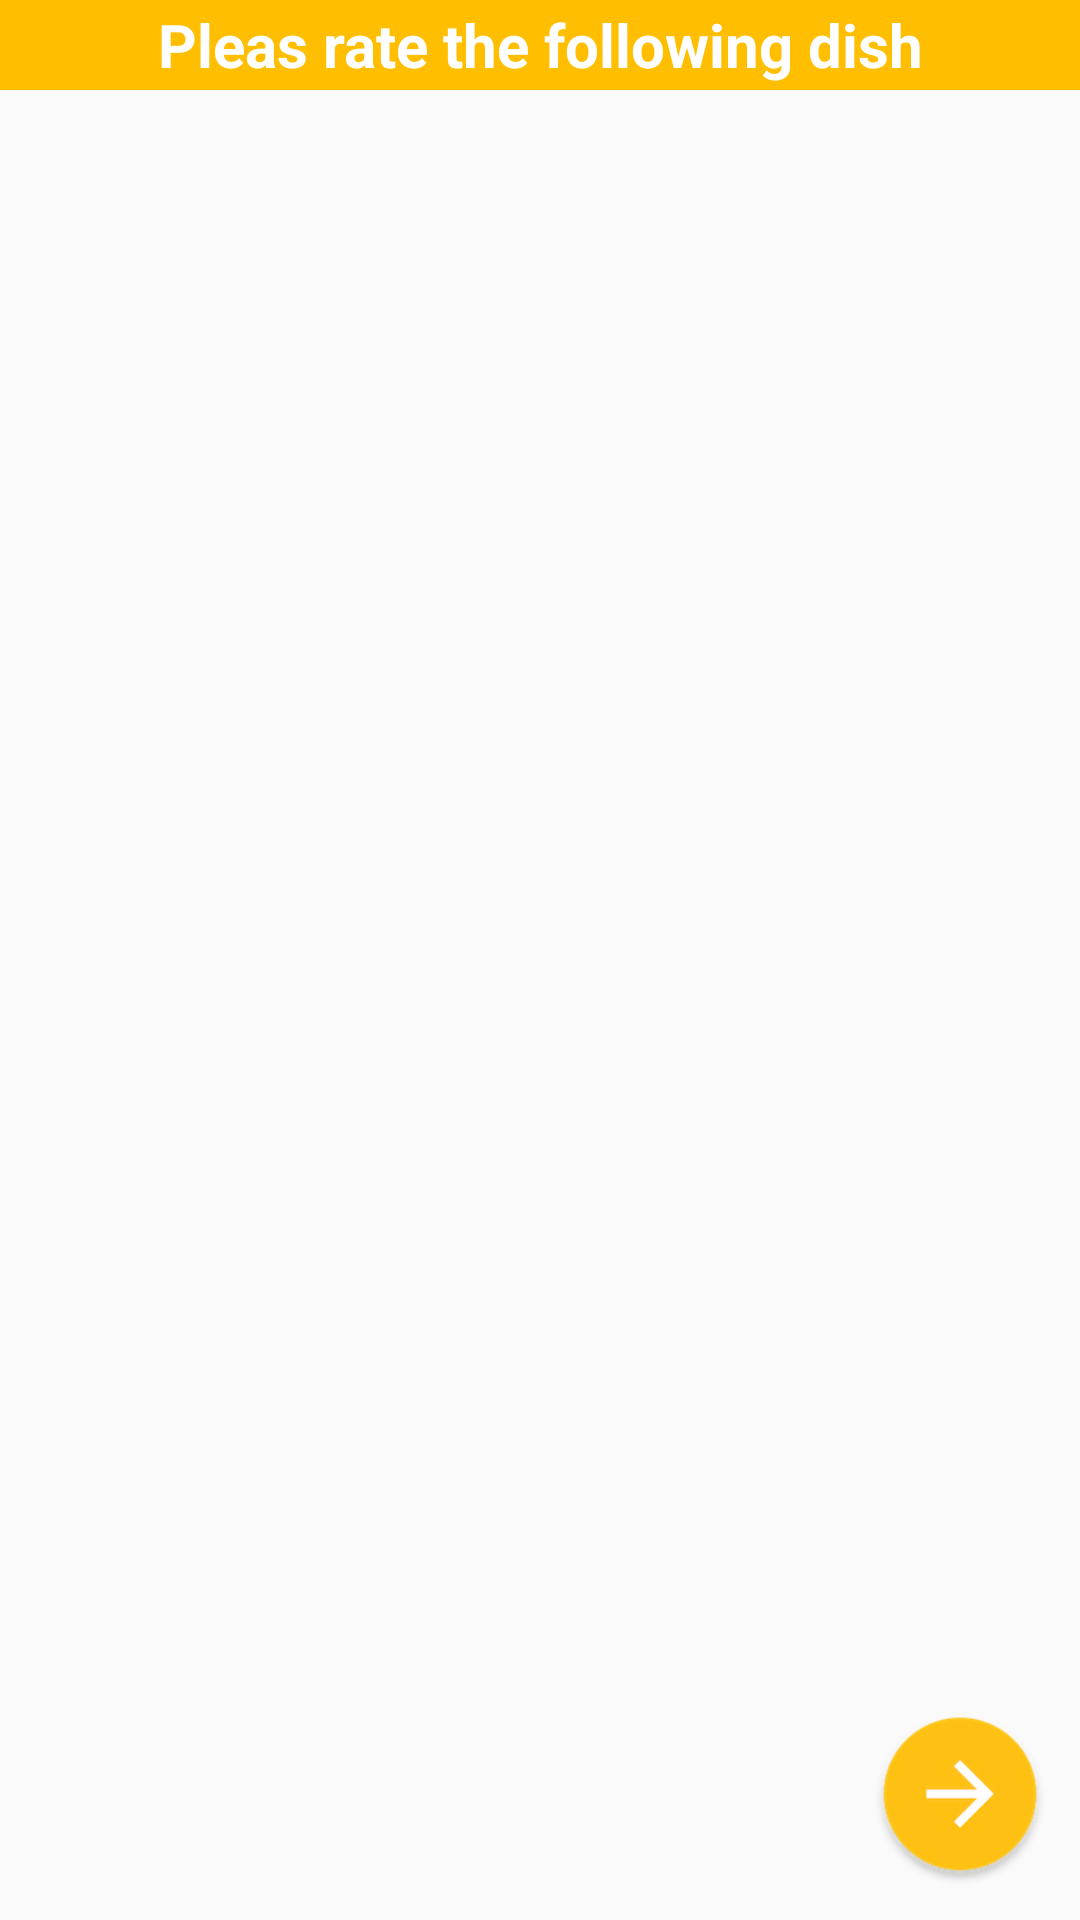

Where icons sit on this 1080 x 1920 app screen, as [x1, y1, x2, y2]:
forward: [883, 1717, 1038, 1877]
